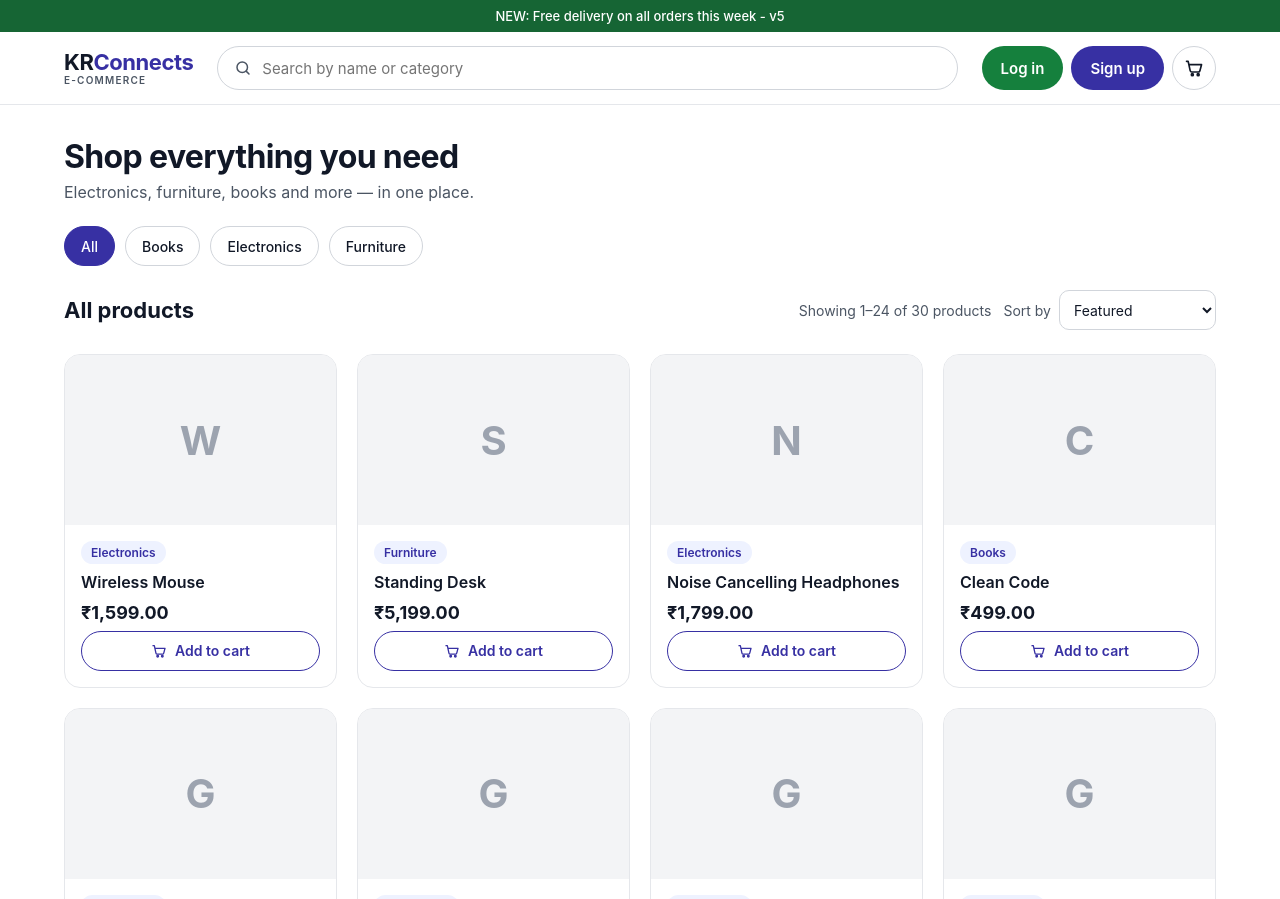
SearchBox (search suggestions) › opens the product page when a suggestion is clicked
Expected: the link "Wireless Mouse" is shown, [81,572,205,592]
In the dropdown with placeholder "Search by name or category": (600, 68) [260,58,940,78], type "desk"
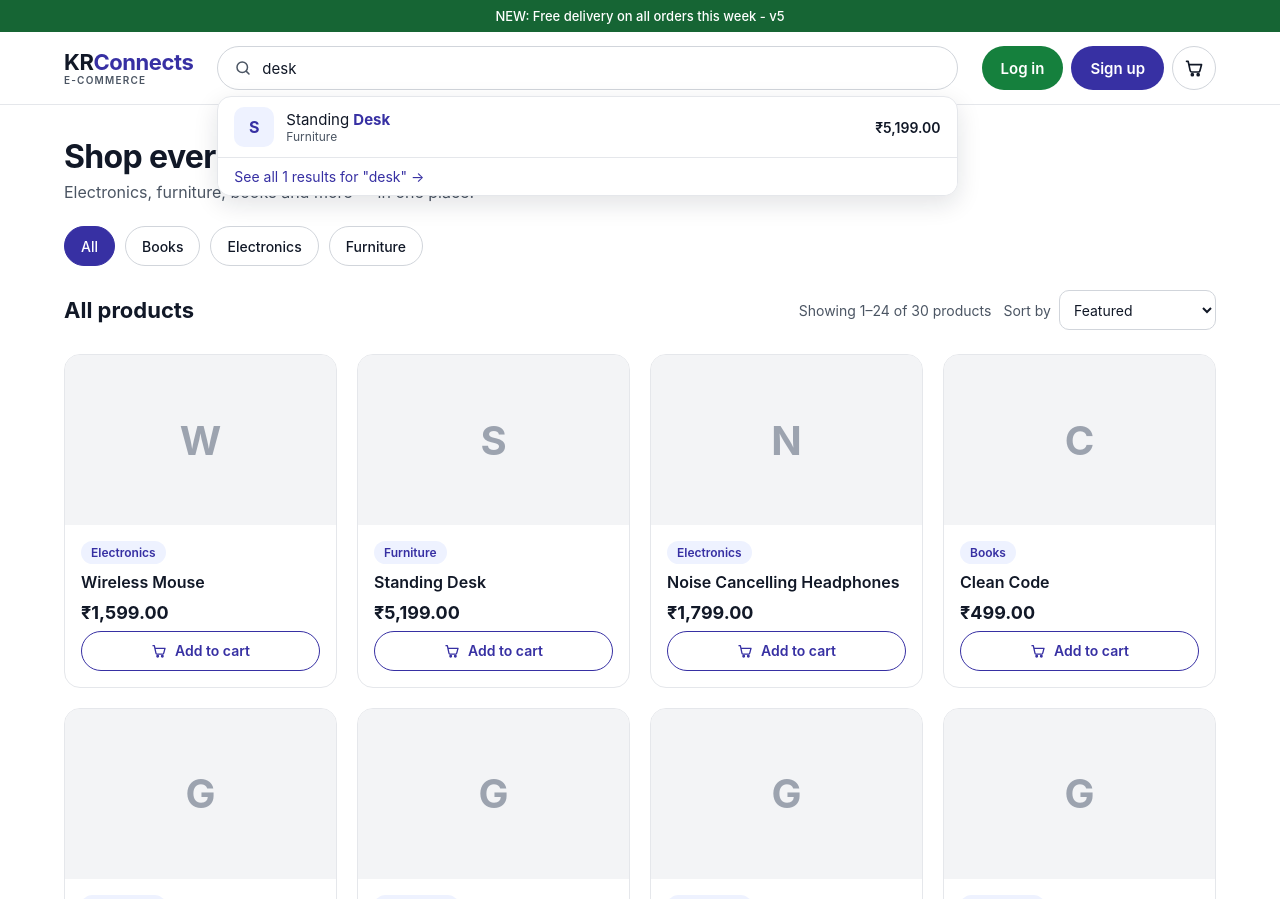
Press the mouse on the option "S Standing Desk Furniture ₹5,199.00": (254, 127) [218,97,956,158]
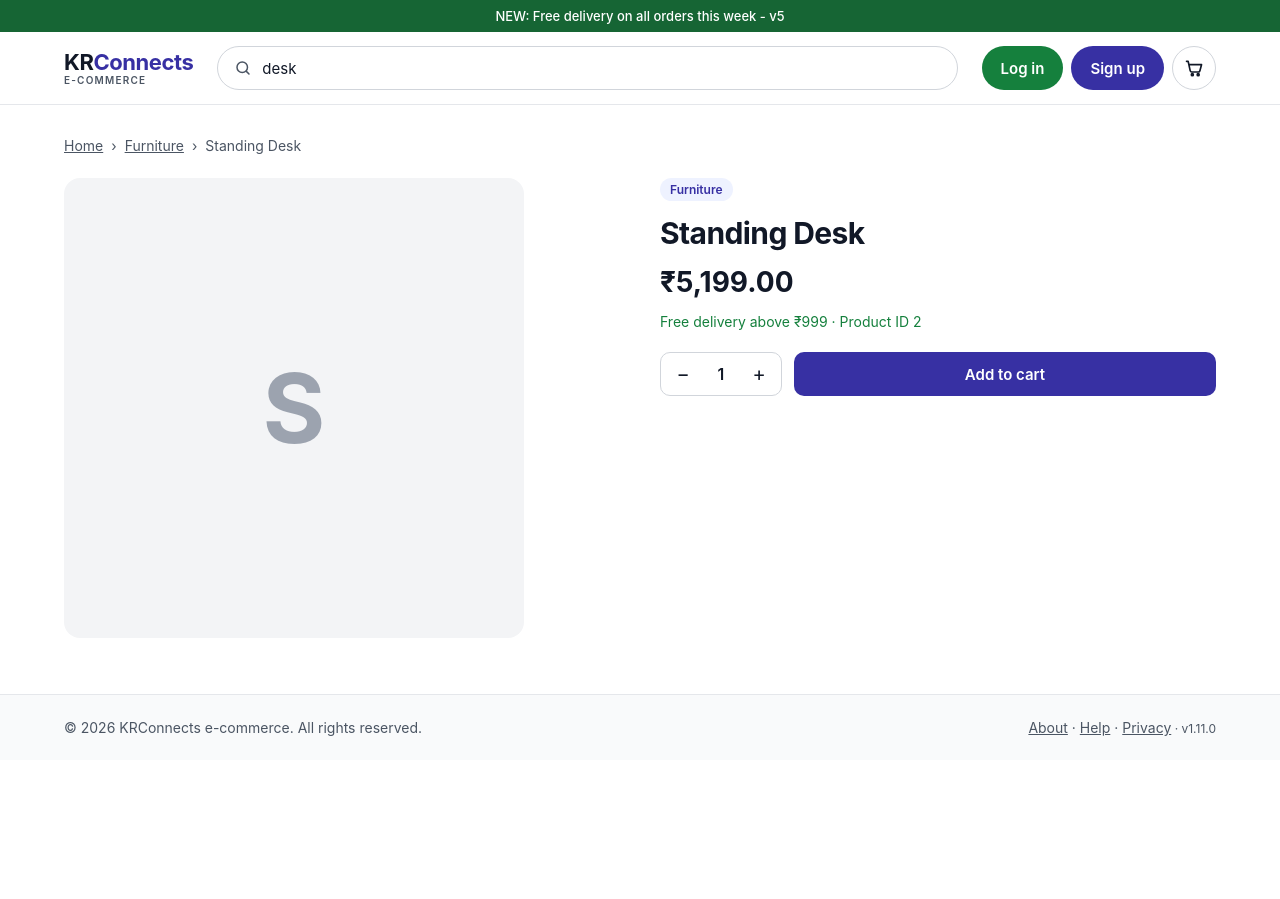
Expected: the heading "Standing Desk" is shown, [660,215,865,251]
Expected: the list is gone
